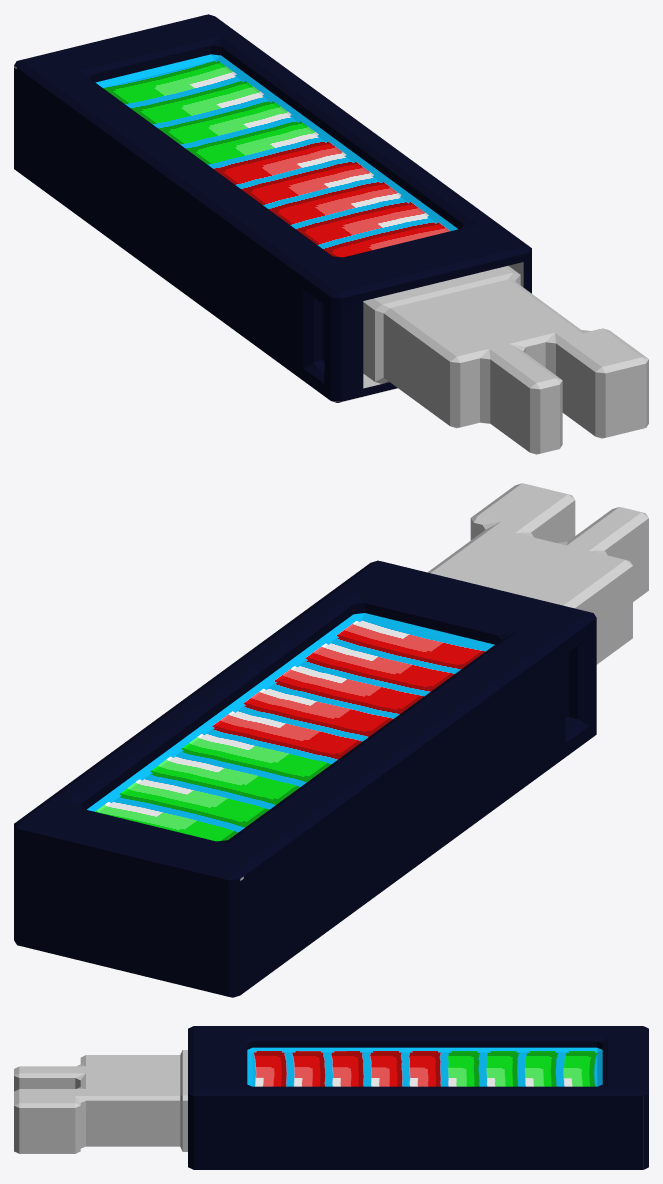
Rendered from Log.fbx.
The picture shows the model from 3 angles, top to bottom: view 1: azimuth 30°, elevation 25°; view 2: azimuth 150°, elevation 25°; view 3: azimuth 270°, elevation 25°; orthographic projection. The views are drawn at different scales.
Parts seen in each view (by area): view 1: Cube; view 2: Cube; view 3: Cube.
Boxes of the visible parts, x1,y1,x2,y2 form: Cube: (14, 14, 648, 454); Cube: (14, 483, 648, 997); Cube: (14, 1026, 648, 1169).
Bounding box in the file's own units: 307 × 161 × 1181.
Materials: 1 (1 with a texture image).
